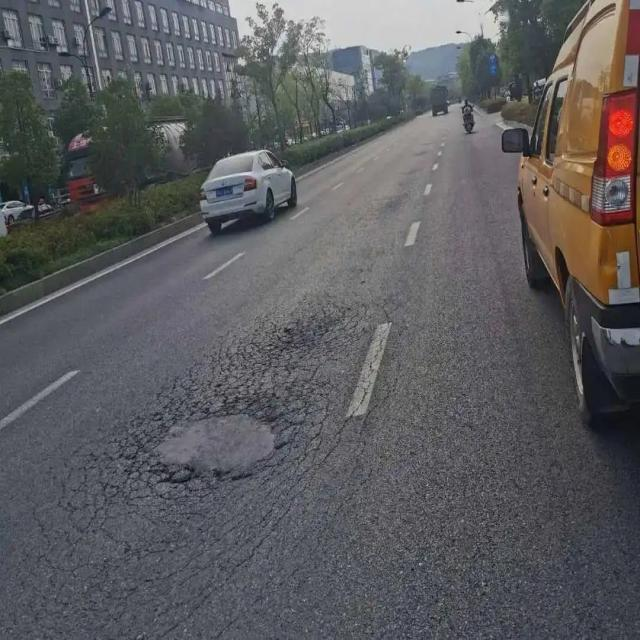Pothole: (147, 411, 281, 488), (267, 327, 346, 364)
